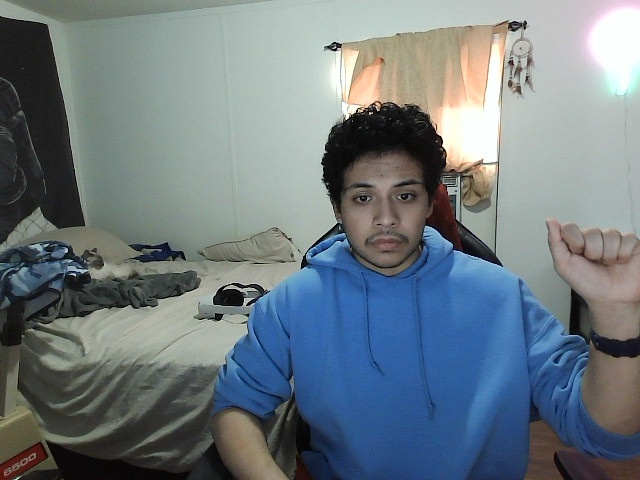A: (537, 208, 640, 311)
